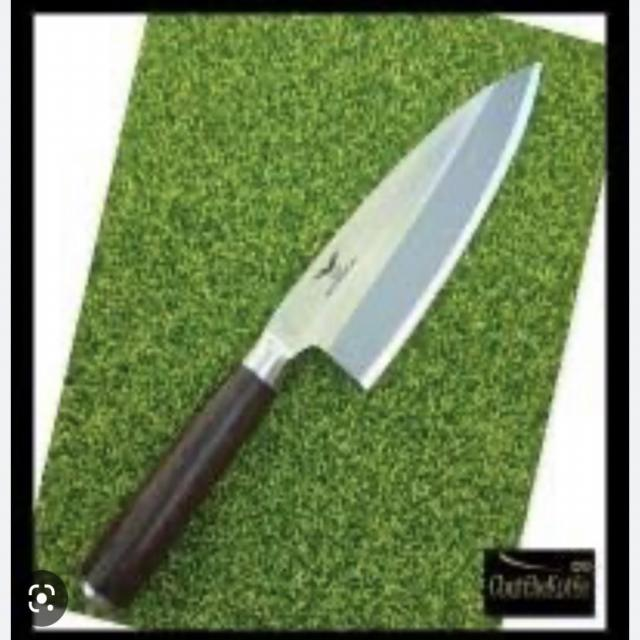knife: (71, 42, 564, 631)
